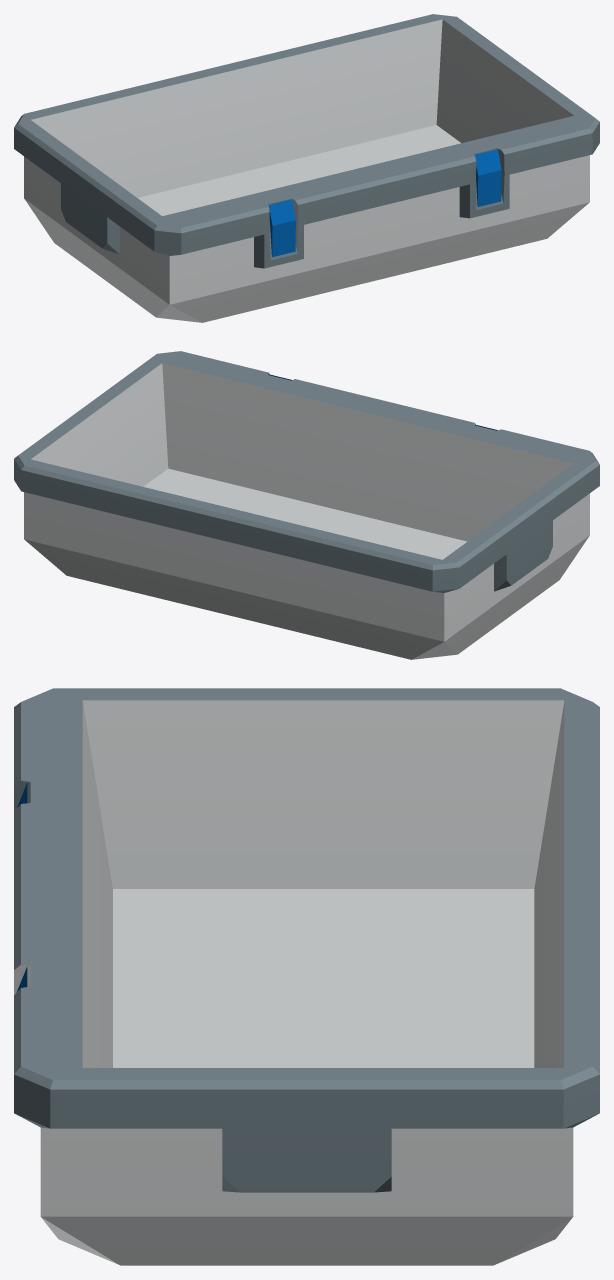
The model's file is Crate_012.fbx.
3 views of the same model, one above another, from view 1: azimuth 30°, elevation 25°; view 2: azimuth 150°, elevation 25°; view 3: azimuth 270°, elevation 25° (orthographic). The views are drawn at different scales.
Parts seen in each view (by area): view 1: Crate_012; view 2: Crate_012; view 3: Crate_012.
Boxes of the visible parts, left/top/right/bottom form: Crate_012: left=14, top=14, right=599, bottom=322; Crate_012: left=14, top=351, right=599, bottom=659; Crate_012: left=14, top=688, right=599, bottom=1265.
Size of the model in its own units: 106 by 66 by 25.
